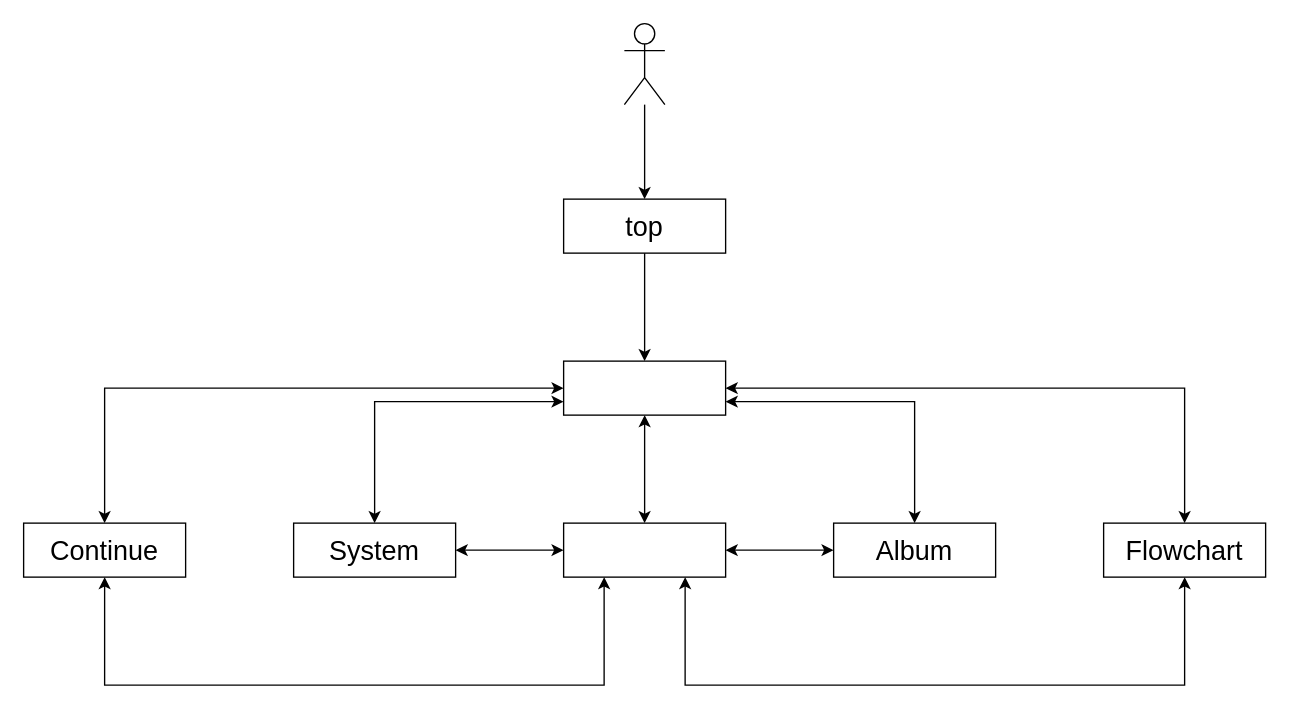
Image size: 1289x721. Some labels were removed from this diagram. The centre of each missing label's shape, as x and y in pixels:
"main menu" belongs at pixel 644 387.
"Scenario" belongs at pixel 644 549.
"user" belongs at pixel 644 63.
